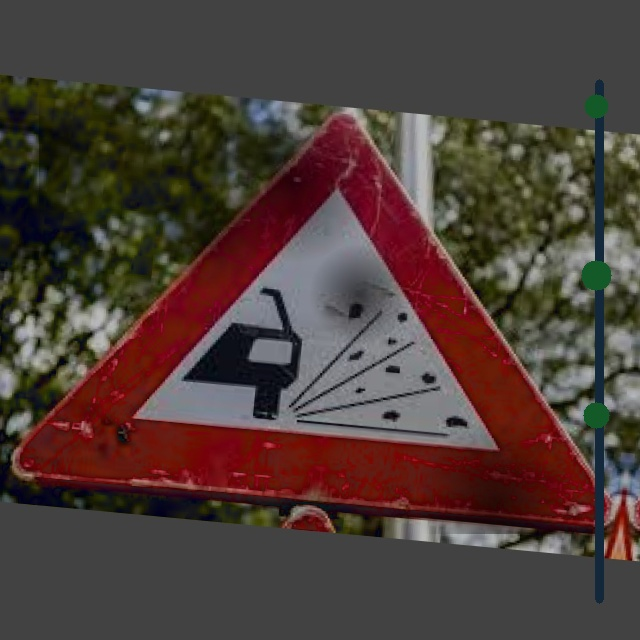Loose_Gravel: (39, 88, 629, 534)
